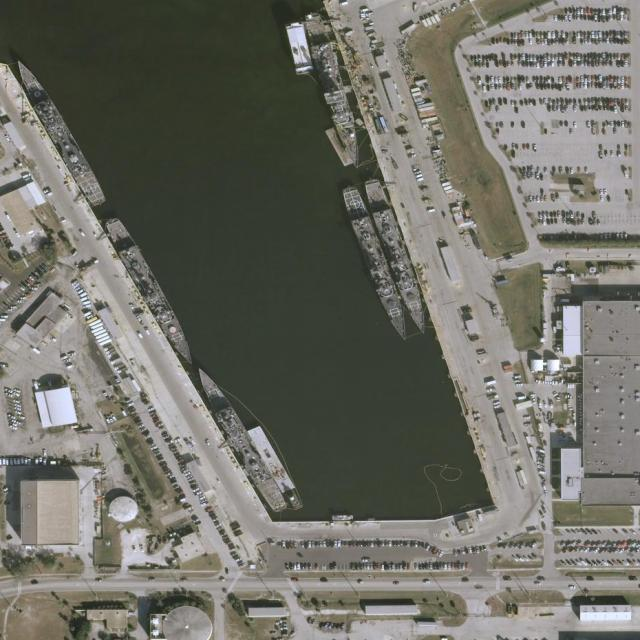Frigate: (8, 55, 109, 208), (191, 361, 289, 515), (103, 216, 201, 369), (340, 183, 414, 343), (365, 178, 430, 336), (305, 10, 363, 171)
